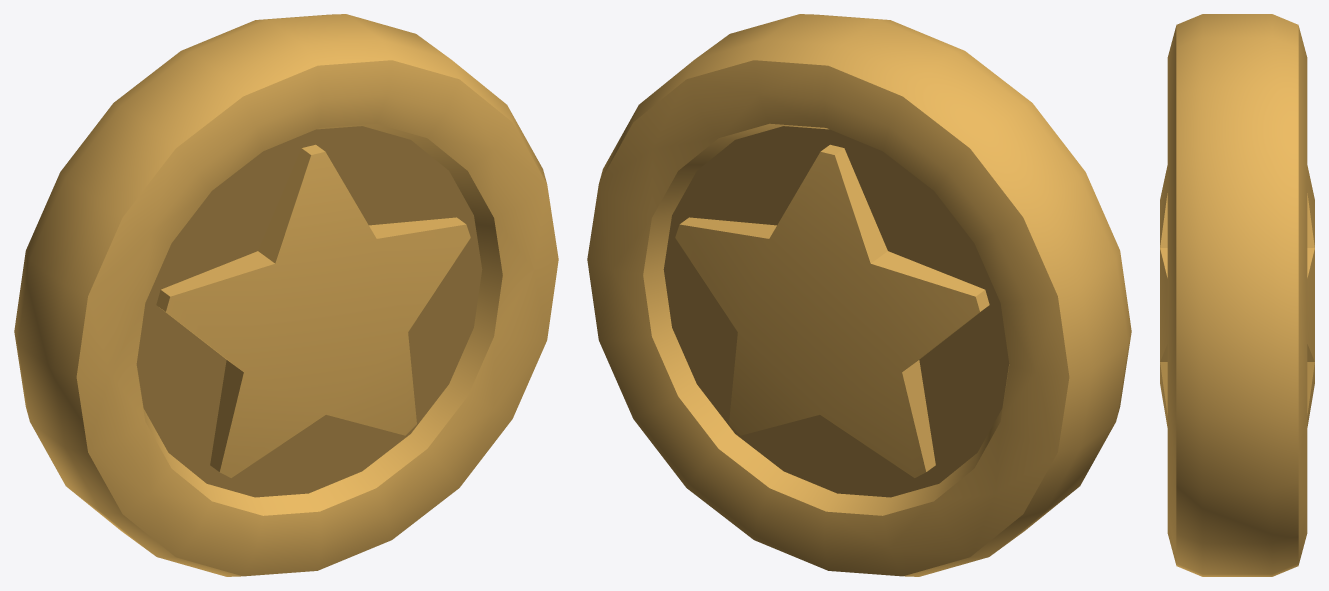
The model's file is Coin.gltf.
The picture shows the model from 3 angles, left to right: view 1: azimuth 30°, elevation 25°; view 2: azimuth 150°, elevation 25°; view 3: azimuth 270°, elevation 25°; orthographic projection. The views are drawn at different scales.
Visible parts, largest first — view 1: Coin; view 2: Coin; view 3: Coin.
Boxes of the visible parts, x1,y1,x2,y2 form: Coin: (14, 14, 558, 576); Coin: (587, 14, 1131, 576); Coin: (1160, 14, 1314, 576).
Size of the model in its own units: 1.92 by 1.92 by 0.5234.
